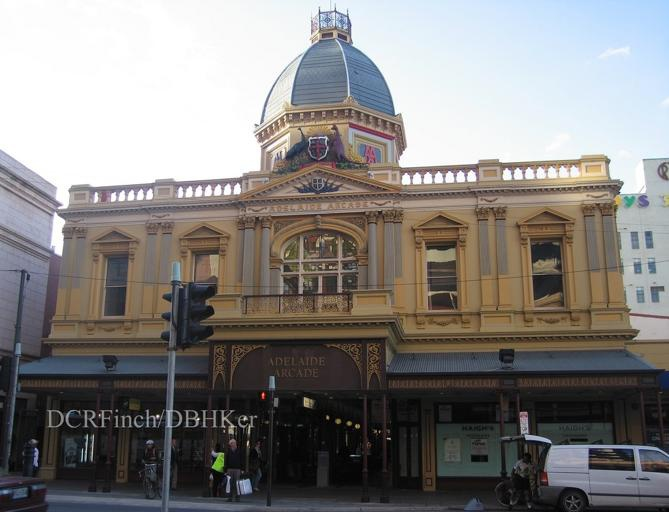non-vehicle: (493, 467, 544, 507), (139, 457, 162, 500)
